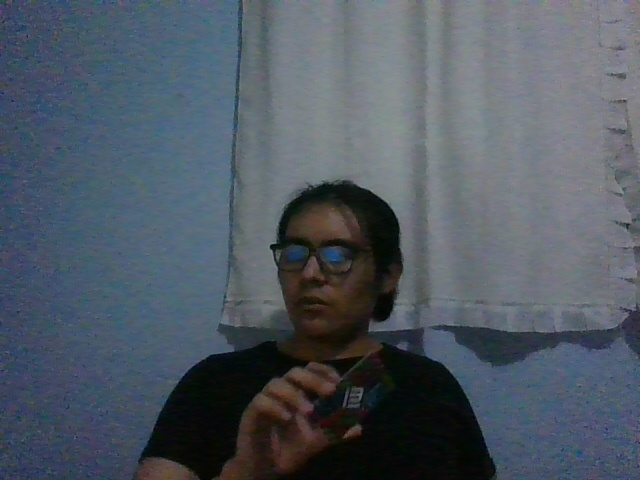tarjeta: (306, 350, 396, 446)
